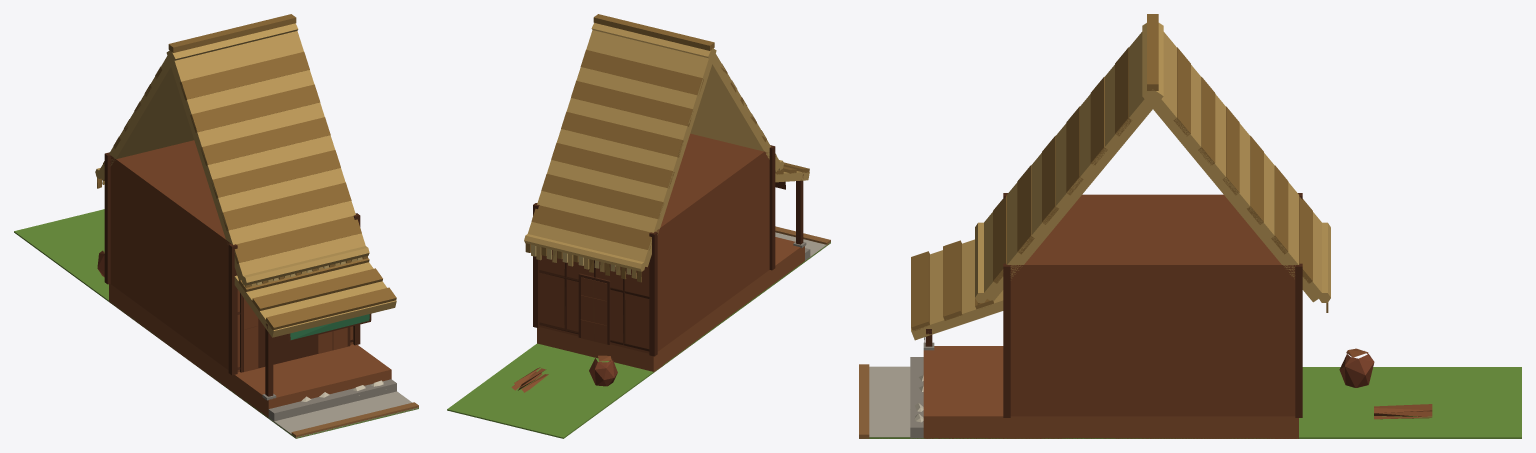
The model's file is bay2_mid2.glb.
3 views of the same model, side by side, from view 1: azimuth 30°, elevation 25°; view 2: azimuth 150°, elevation 25°; view 3: azimuth 270°, elevation 25° (orthographic). The views are drawn at different scales.
Parts seen in each view (by area): view 1: body; view 2: body; view 3: body.
Boxes of the visible parts, bbox=[...] form: body: bbox=[14, 14, 418, 438]; body: bbox=[447, 14, 830, 438]; body: bbox=[859, 14, 1521, 438].
Size of the model in its own units: 4.18 by 9.39 by 15.9.
